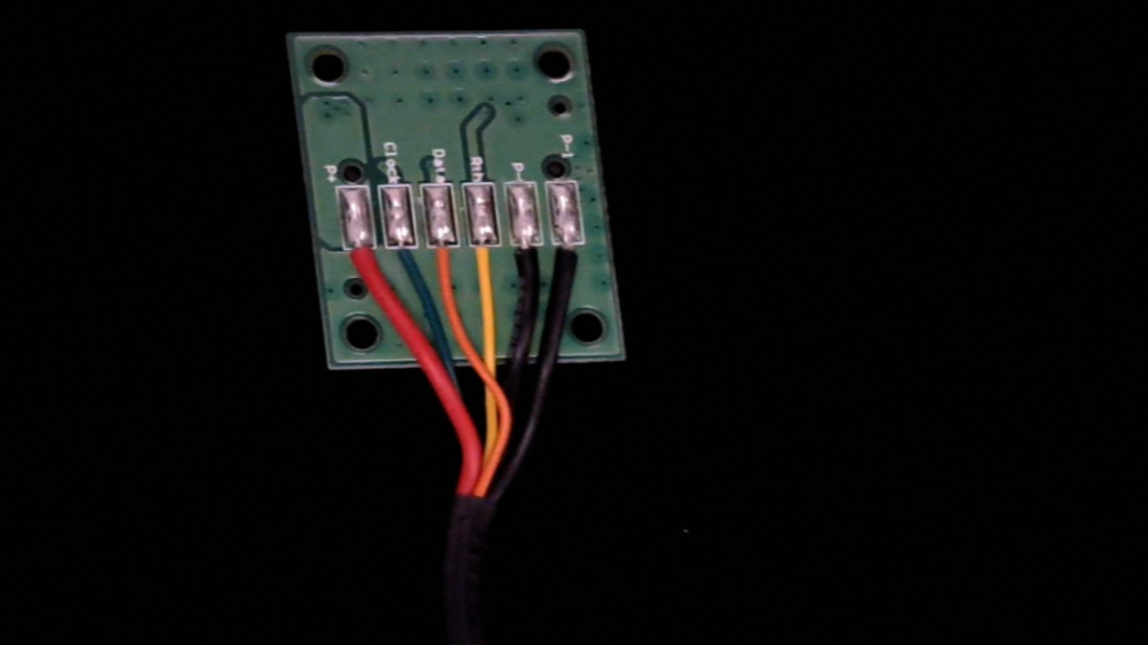Black: (510, 227, 550, 295)
Black1: (553, 230, 593, 297)
Green: (387, 232, 425, 293)
Orange: (427, 229, 465, 292)
Red: (345, 233, 384, 299)
Yellow: (469, 226, 508, 295)
